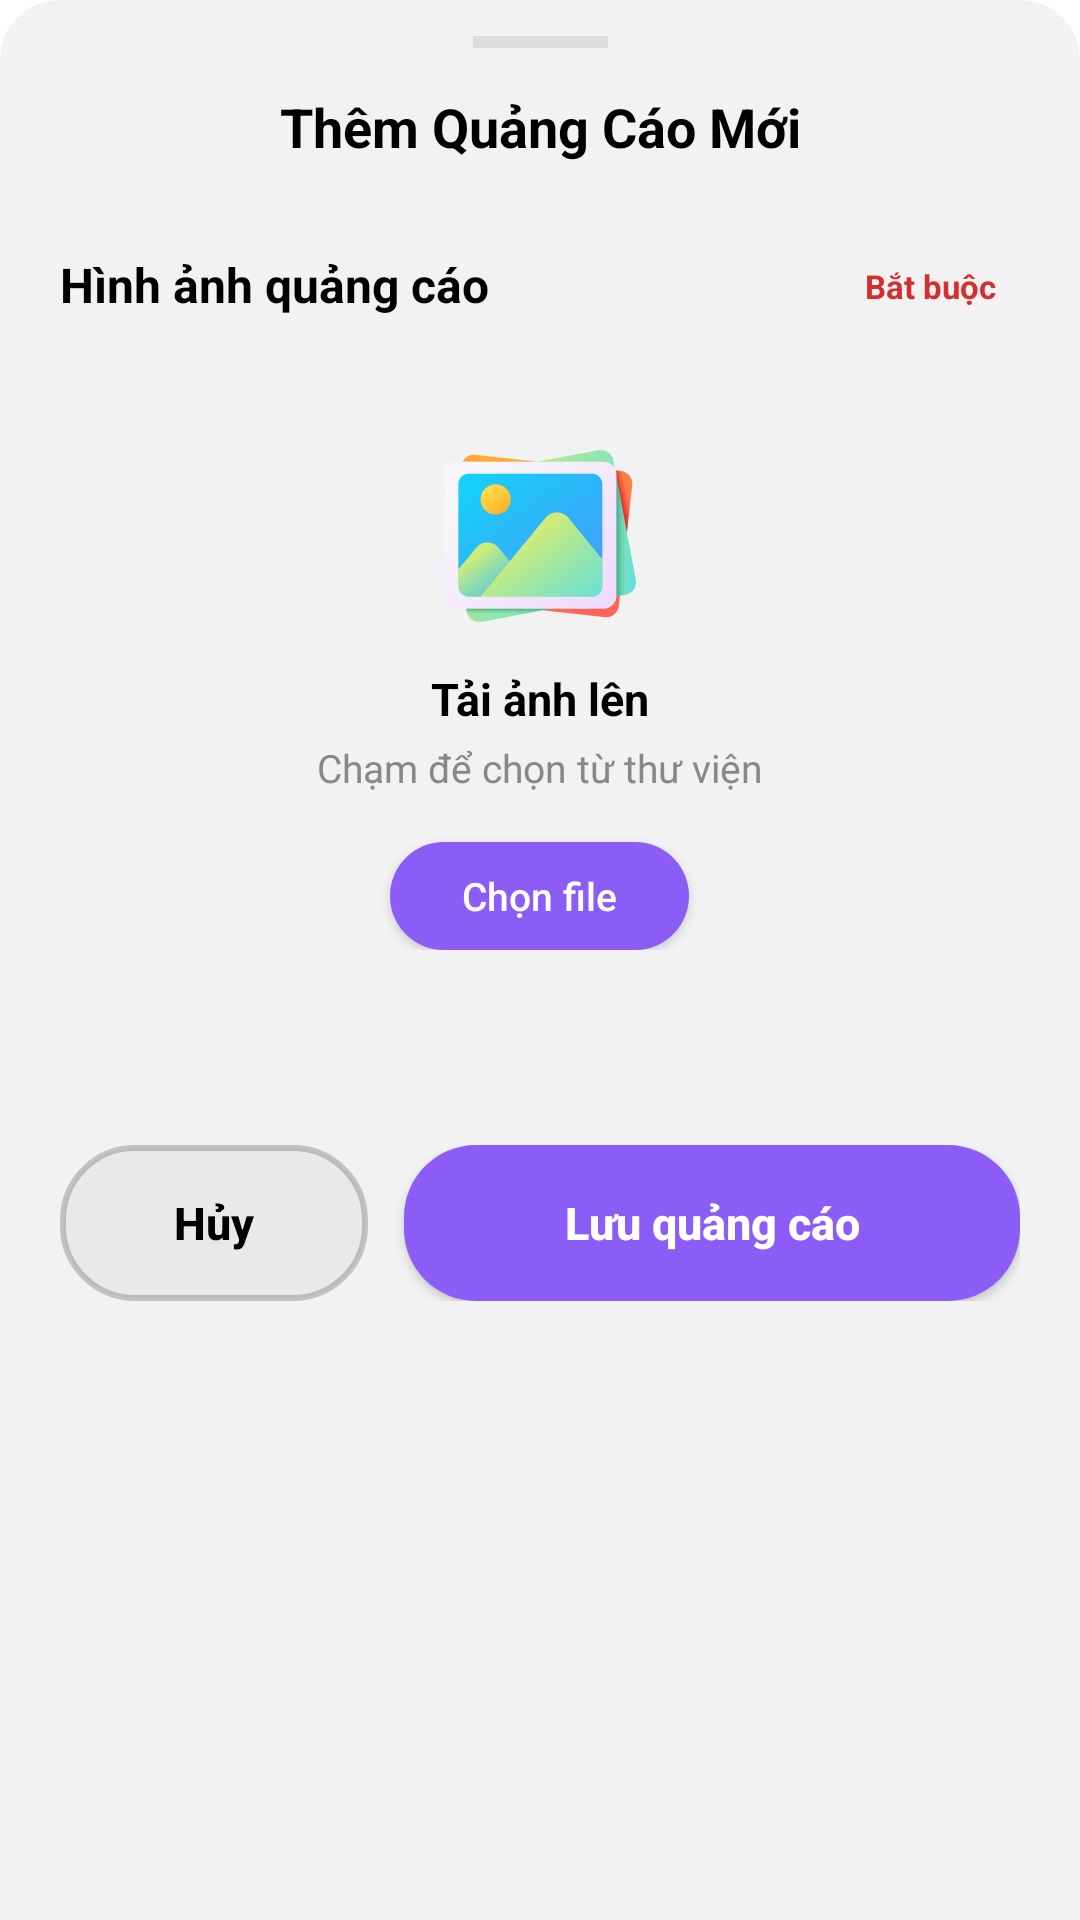

Icon click points for this 1080w x 1920h phone screenshot, format (x=x, y=y):
hinh anh: (x=540, y=536)
